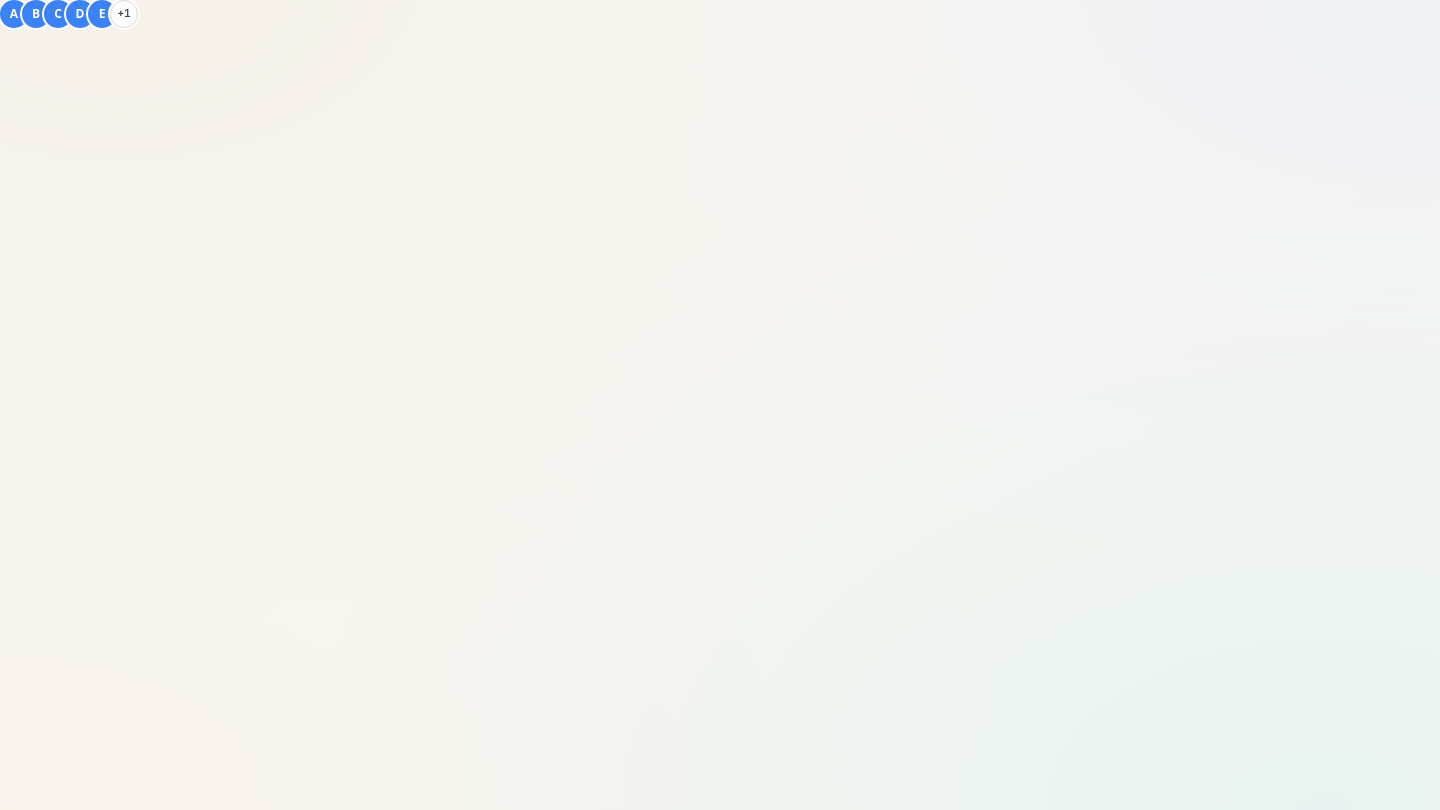
Test case: OnlineUsers › clicking +N opens popover with the overflow users only
Click the button named "diğer 1 çevrimiçi". click: coordinates (124, 14)
box: x1=110 y1=0 x2=138 y2=28
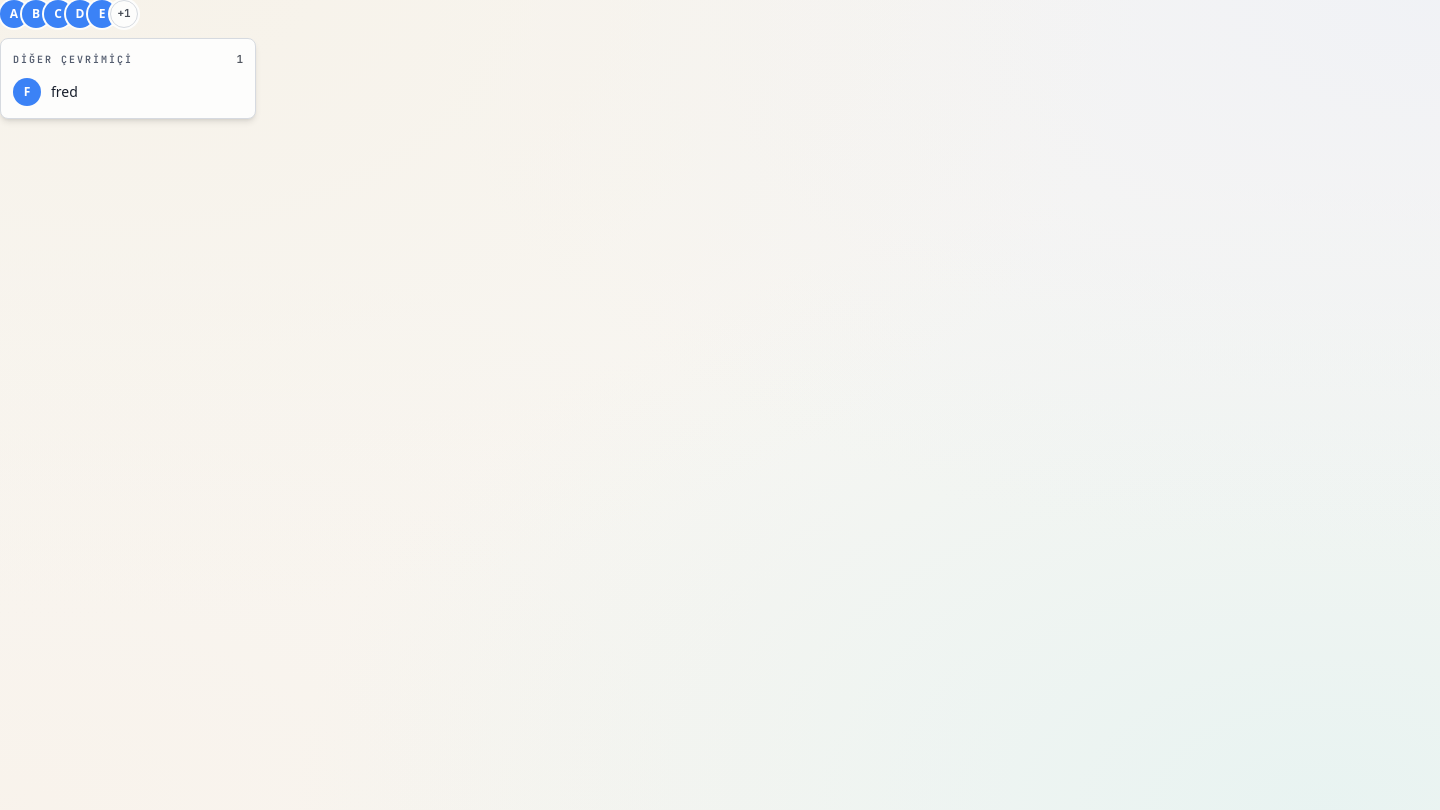
Check: the text "fred" is shown, box x1=51 y1=81 x2=78 y2=103
